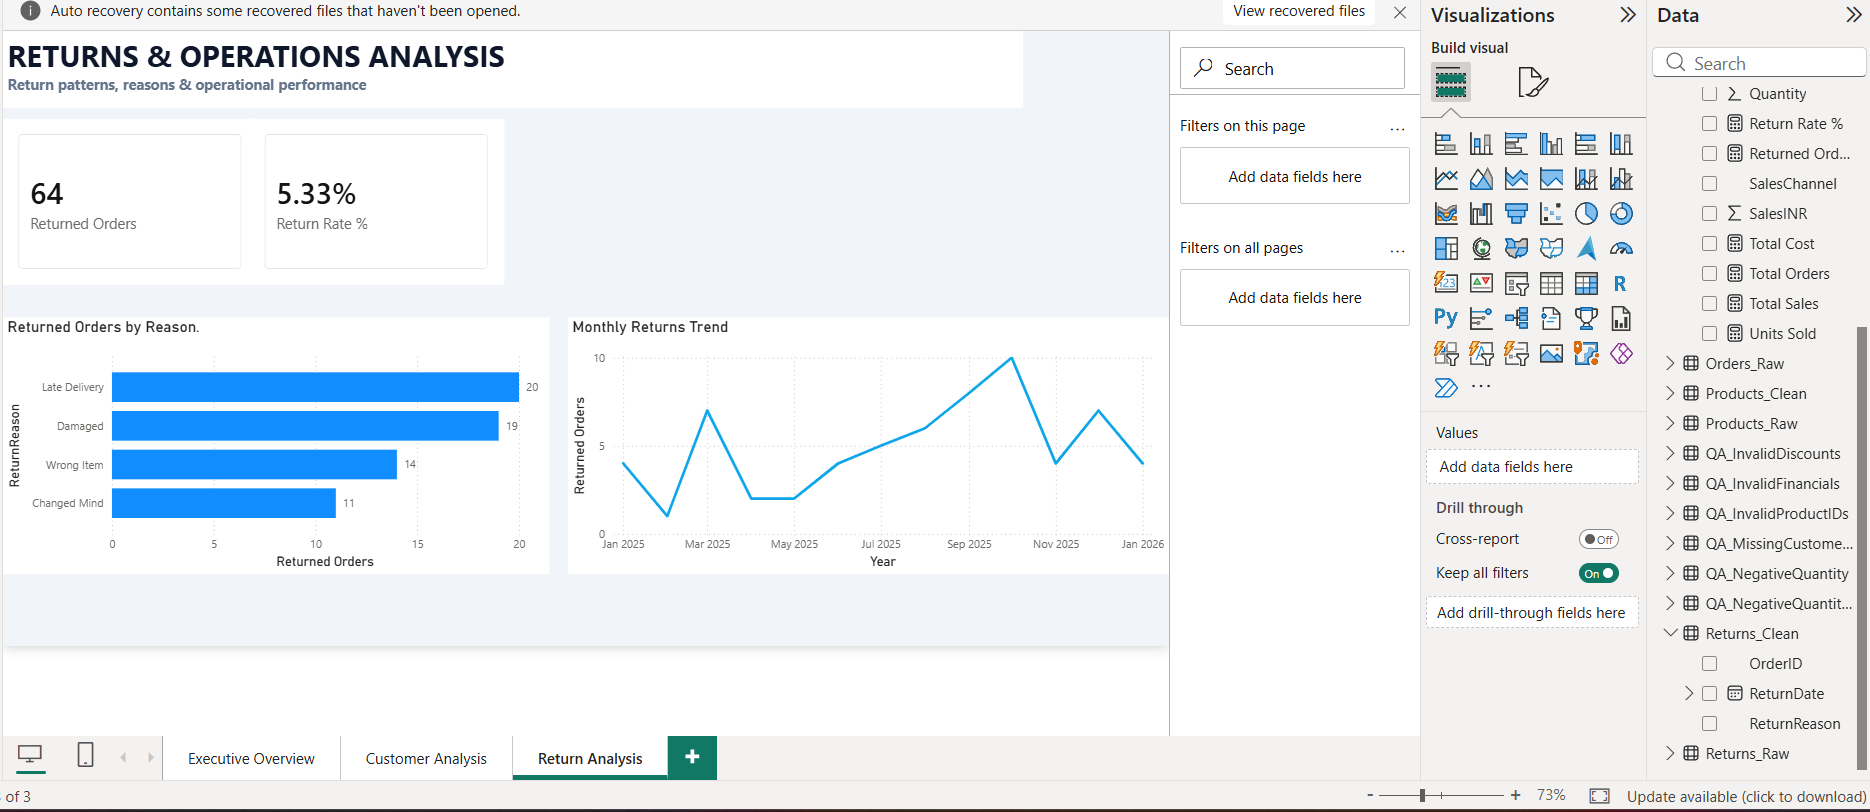

Layout of this report page (visuals, bound fields, positions):
{"tool":"powerbi","page":{"name":"Return Analysis","canvas":[1280,720],"ordinal":2},"visuals":[{"type":"cardVisual","fields":{"Data":["Orders_Clean.Returned Orders"]},"box":[0,141.3,279.9,182.5],"z":0},{"type":"cardVisual","fields":{"Data":["Orders_Clean.Return Rate %"]},"box":[270.3,141.3,279.9,182.5],"z":1},{"type":"textbox","box":[0,45.3,1119.7,83.7],"z":2},{"type":"clusteredBarChart","title":"Returned Orders by Reason.","fields":{"Category":["Returns_Clean.ReturnReason"],"Y":["Orders_Clean.Returned Orders"]},"box":[0,359.5,599.7,281.3],"z":3},{"type":"lineChart","title":"Monthly Returns Trend","fields":{"Y":["Orders_Clean.Returned Orders"],"Category":["Returns_Clean.ReturnDate.Variation.Date Hierarchy.Year","Returns_Clean.ReturnDate.Variation.Date Hierarchy.Month"]},"box":[620.2,359.5,660,281.3],"z":4}]}

Visuals, with their boxes on the page's 1280x720 design canvas (x1, y1, x2, y2). These are canvas units, not pixel positions in the 1870x812 screenshot, which may show the page scaled, cropped or inside an application window:
cardVisual - Orders_Clean.Returned Orders: detection(0, 141, 280, 324)
cardVisual - Orders_Clean.Return Rate %: detection(270, 141, 550, 324)
textbox: detection(0, 45, 1120, 129)
"Returned Orders by Reason." clusteredBarChart: detection(0, 360, 600, 641)
"Monthly Returns Trend" lineChart: detection(620, 360, 1280, 641)
